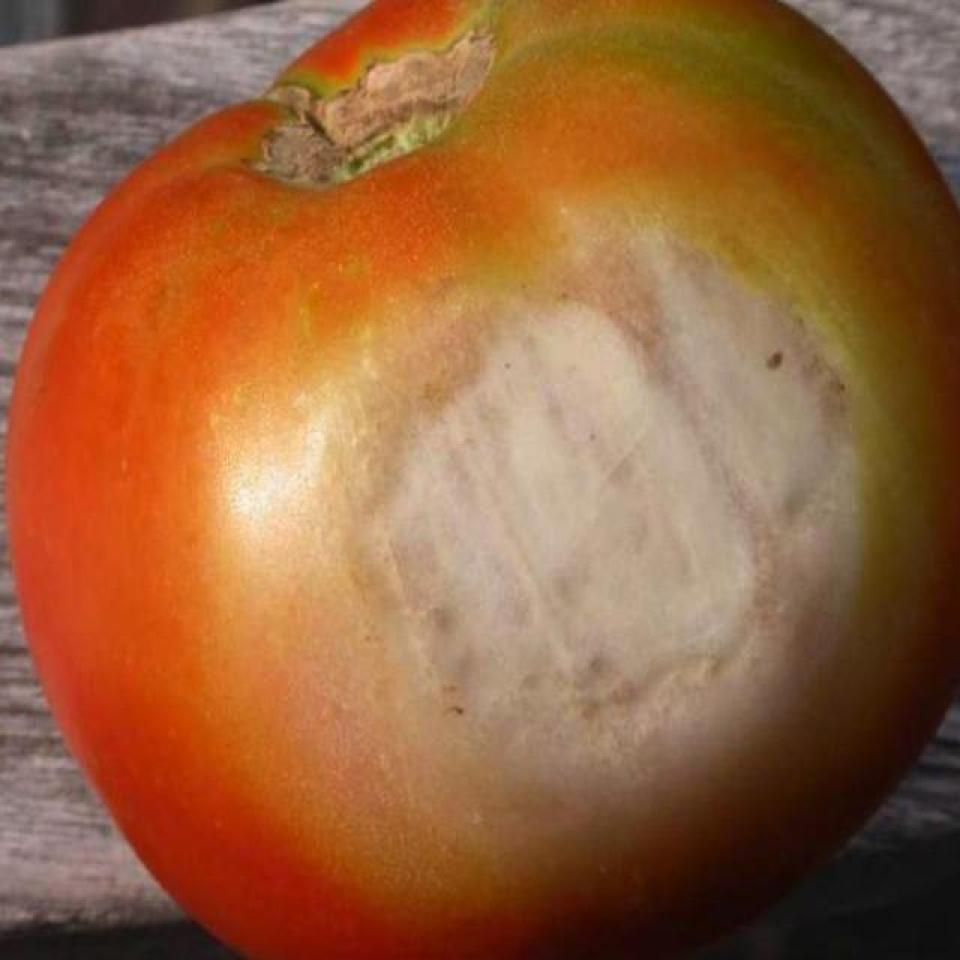Sunscald: (241, 180, 879, 858)
